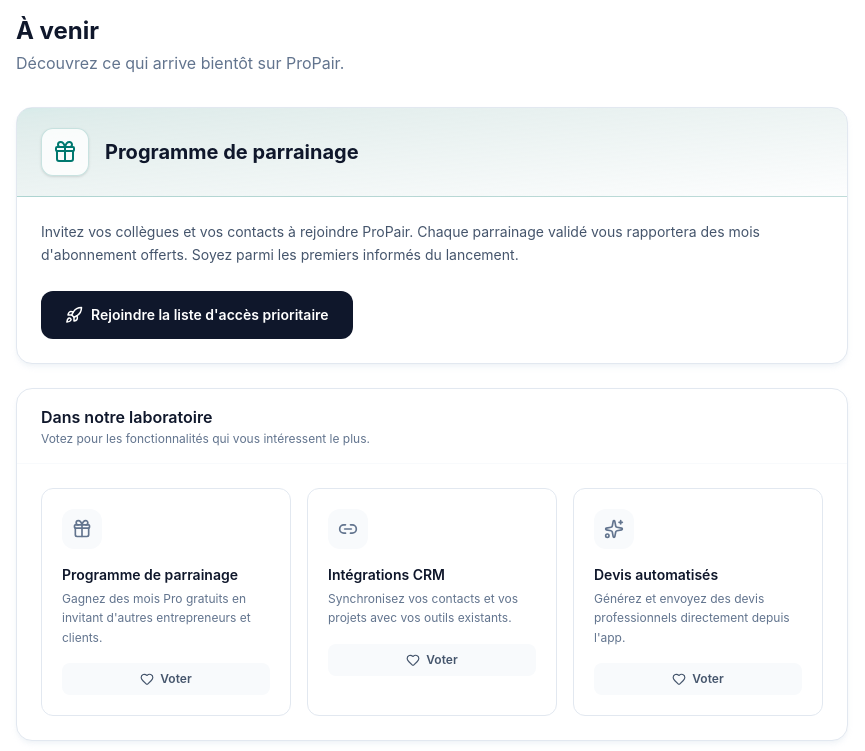
ComingSoon › clicking waitlist button changes to joined state
The width and height of the screenshot is (865, 751).
Click the button "Rejoindre la liste d'accès prioritaire": click(197, 314) [41,290,353,338]
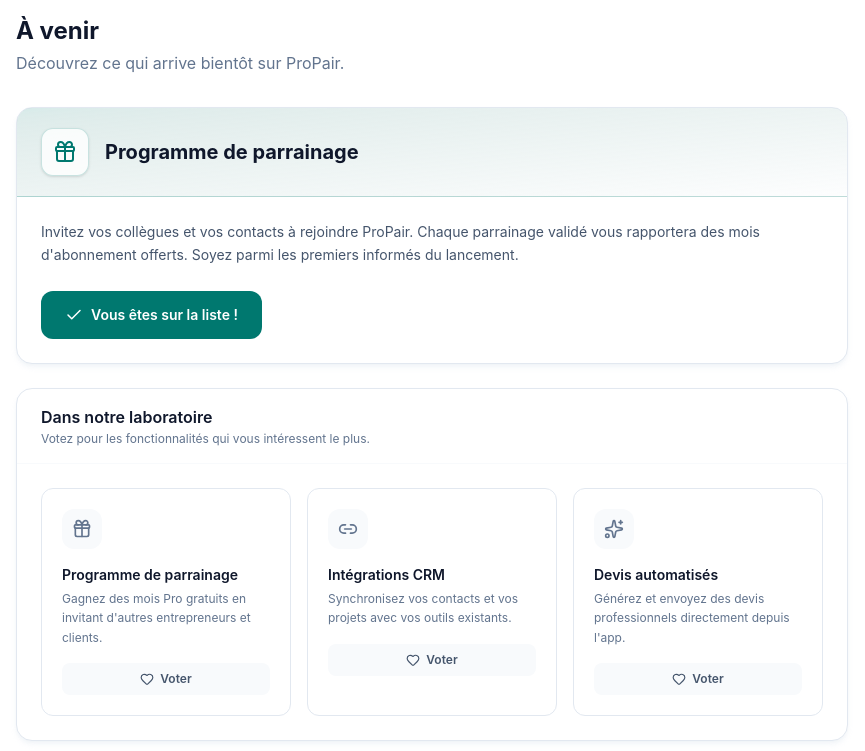
Now the button "Vous êtes sur la liste !" is shown, box [41,290,262,338]
